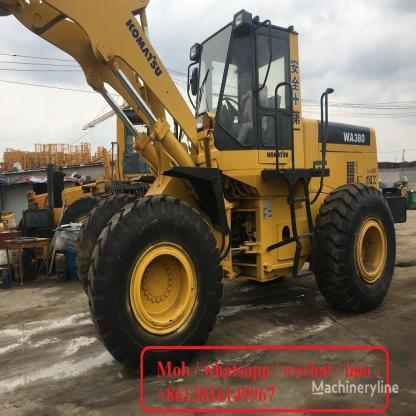bull_dozer/loader/grader: (15, 2, 416, 378)
